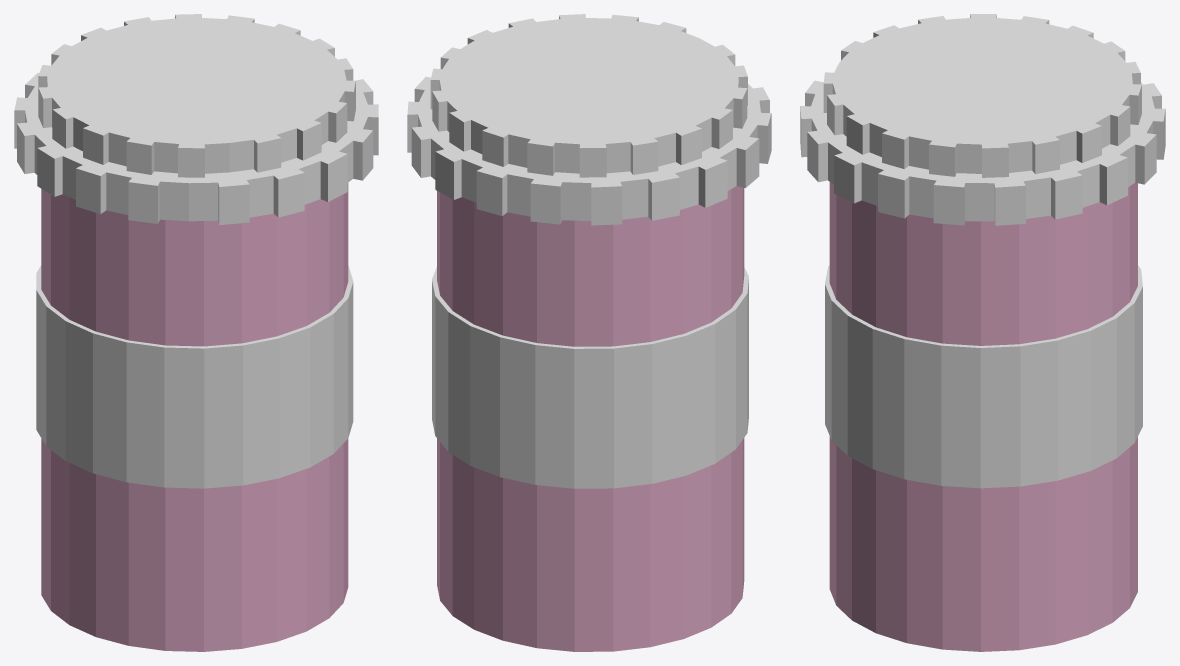
The model's file is pink med.fbx.
3 views of the same model, side by side, from view 1: azimuth 30°, elevation 25°; view 2: azimuth 150°, elevation 25°; view 3: azimuth 270°, elevation 25° (orthographic).
Visible parts, largest first — view 1: pCylinder101; view 2: pCylinder101; view 3: pCylinder101.
Boxes of the visible parts, left/top/right/bottom form: pCylinder101: left=14, top=14, right=378, bottom=651; pCylinder101: left=407, top=14, right=771, bottom=651; pCylinder101: left=800, top=14, right=1165, bottom=651.
Bounding box in the file's own units: 0.2393 × 0.3665 × 0.2393.
